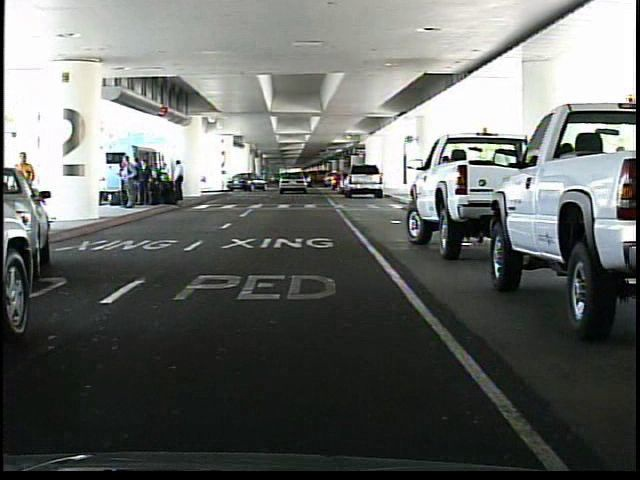person: (5, 148, 41, 237)
